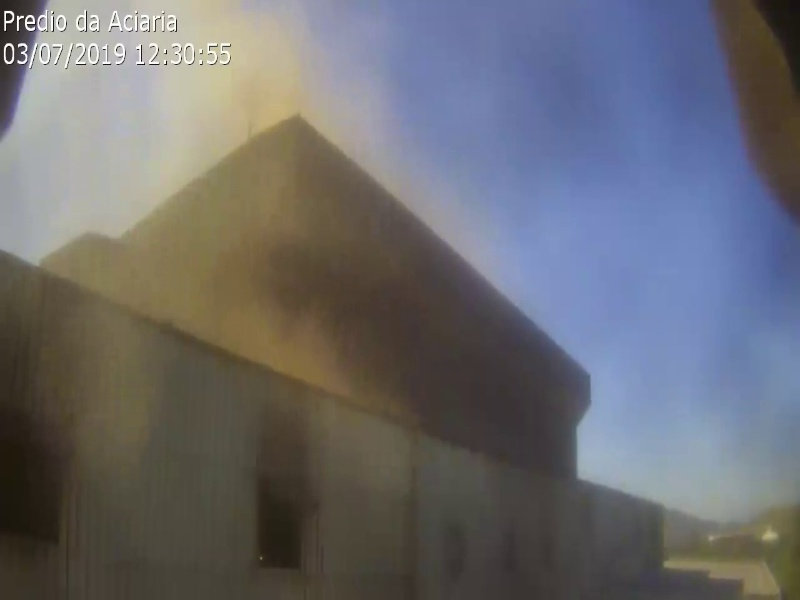Pessimo: (255, 12, 298, 119), (221, 7, 264, 114), (197, 47, 240, 154), (256, 90, 299, 197), (99, 249, 188, 291), (144, 271, 233, 313), (203, 310, 292, 352), (257, 332, 346, 374), (190, 243, 279, 285), (188, 173, 277, 215), (107, 209, 196, 251), (182, 201, 271, 243)
